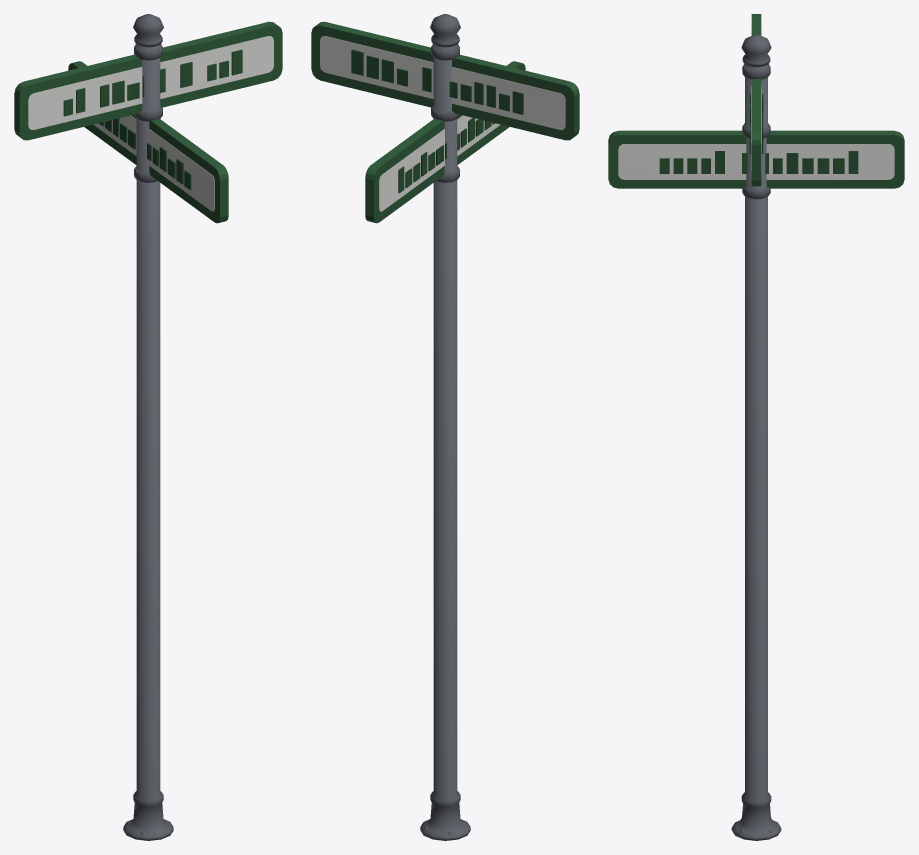
Rendered from sign.glb.
3 renders of one model, left to right at view 1: azimuth 30°, elevation 25°; view 2: azimuth 150°, elevation 25°; view 3: azimuth 270°, elevation 25°, orthographic. The views are drawn at different scales.
Visible parts, largest first — view 1: sign; view 2: sign; view 3: sign.
Part boxes in pixels (<box>): sign: <box>14,14,282,840</box>; sign: <box>311,14,579,840</box>; sign: <box>608,14,904,840</box>.
Bounding box in the file's own units: 0.9 × 2.66 × 0.9.
